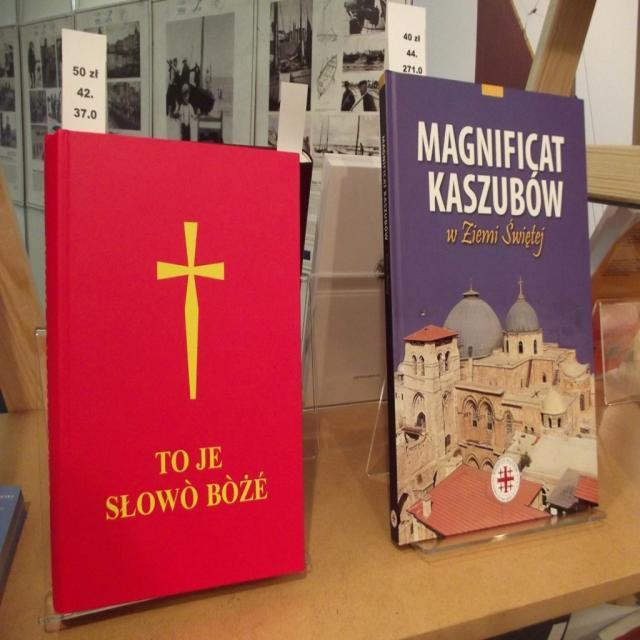book: (44, 128, 312, 626), (383, 70, 606, 547), (1, 482, 30, 593)
